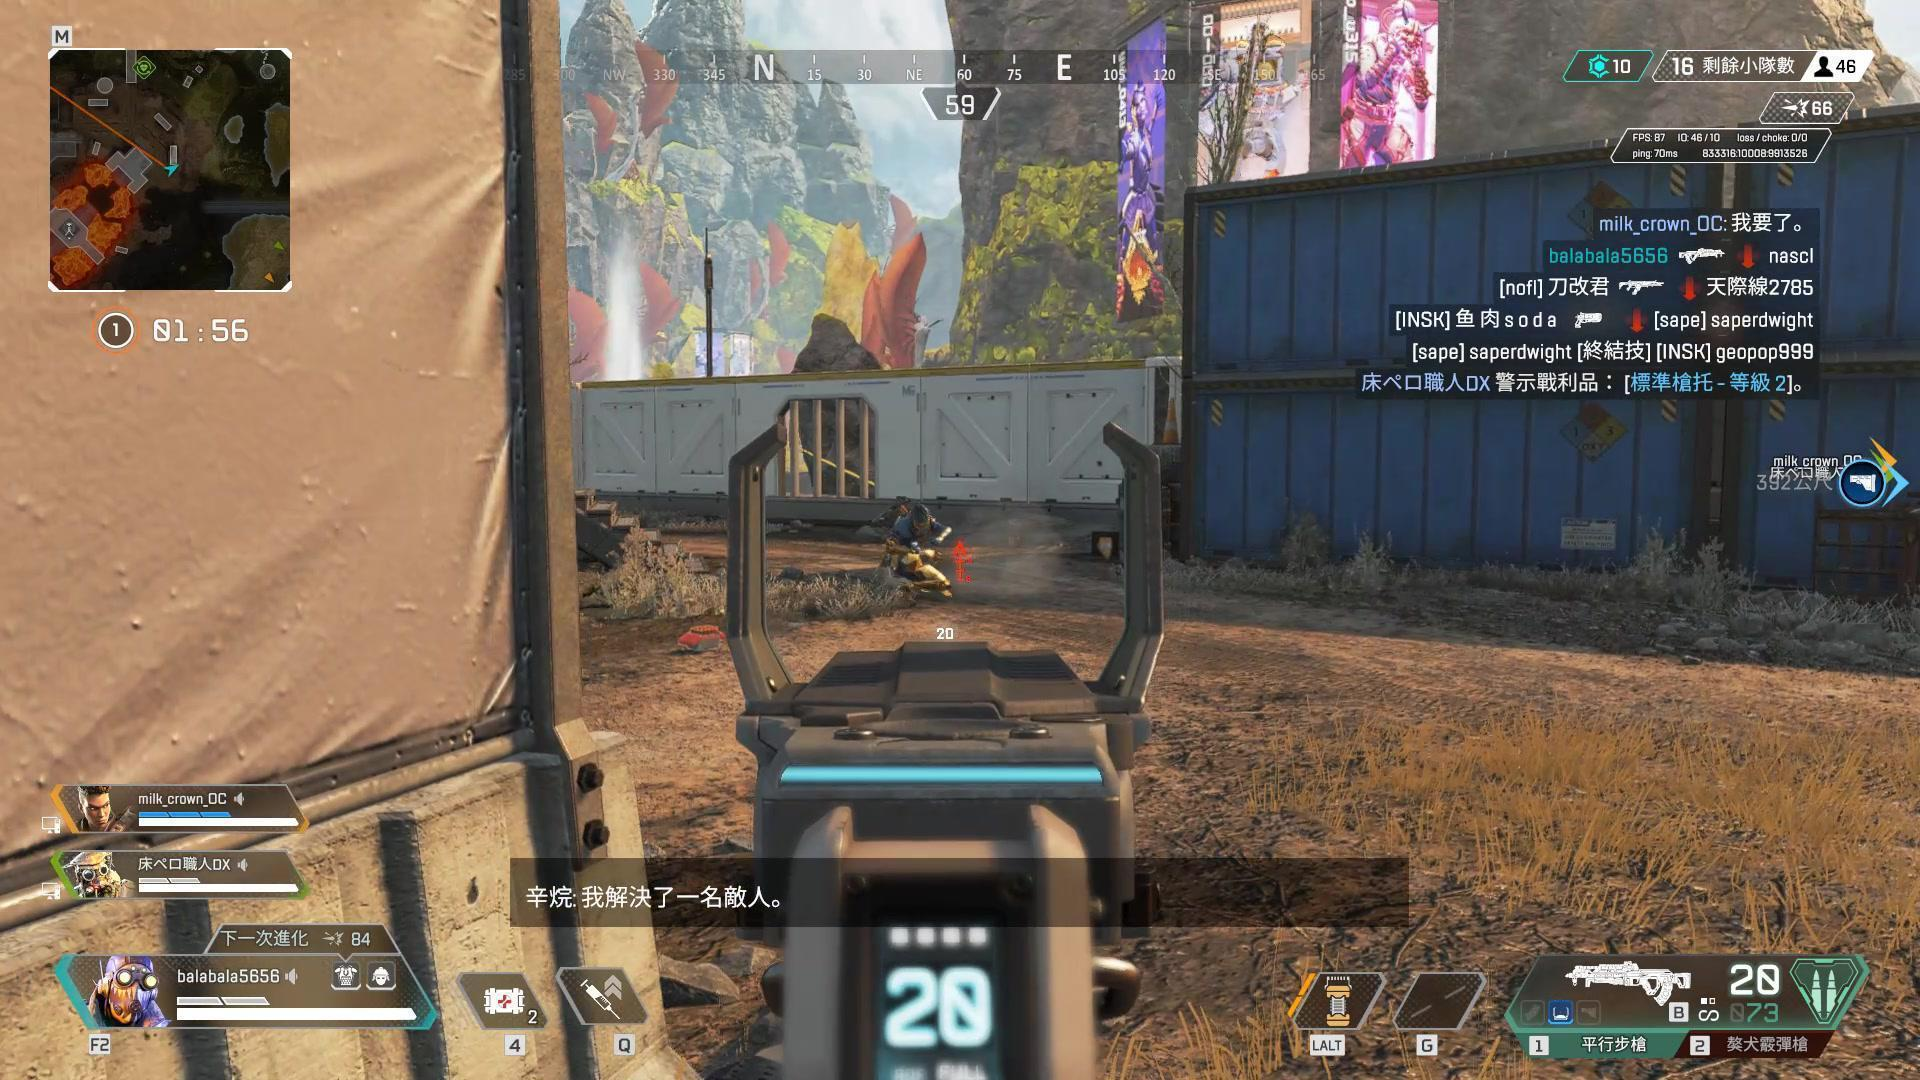avatar: (881, 499, 955, 608)
